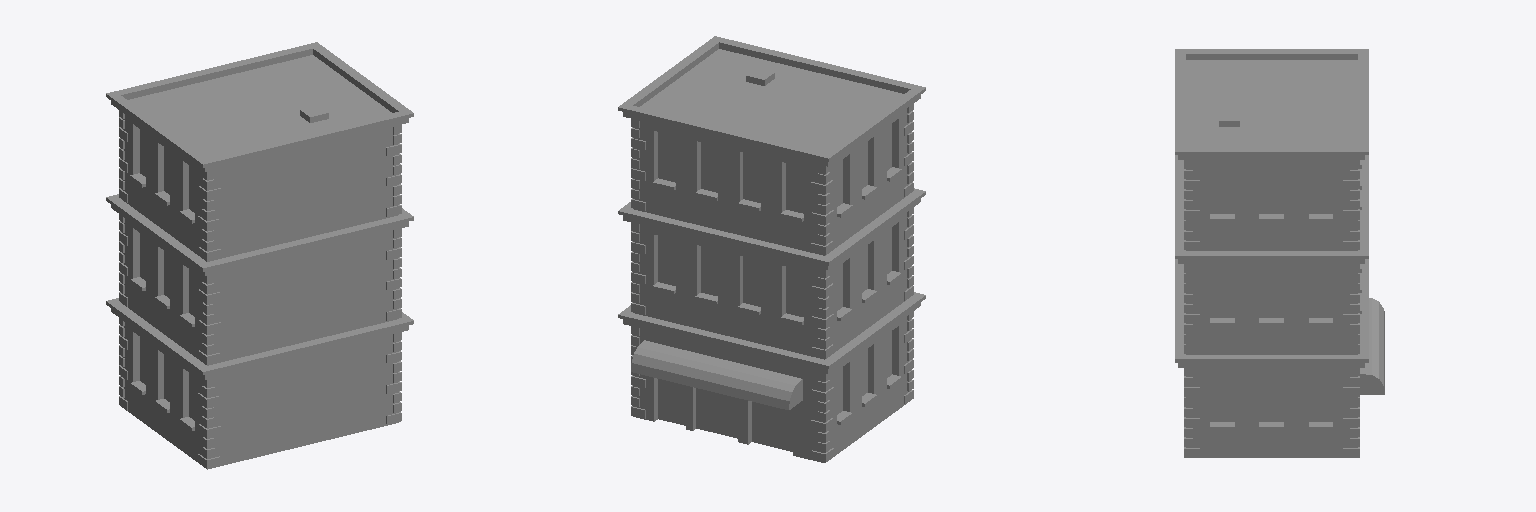
The model's file is Buildings.obj.
The picture shows the model from 3 angles: view 1: azimuth 30°, elevation 25°; view 2: azimuth 150°, elevation 25°; view 3: azimuth 270°, elevation 25°; orthographic projection.
Parts seen in each view (by area): view 1: apartments2.000_Plane.002; view 2: apartments2.000_Plane.002; view 3: apartments2.000_Plane.002.
Boxes of the visible parts, box(x1,y1,x2,y2) form: apartments2.000_Plane.002: box(106, 42, 413, 469); apartments2.000_Plane.002: box(618, 36, 925, 462); apartments2.000_Plane.002: box(1175, 49, 1384, 457).
Size of the model in its own units: 6.6 by 9.3 by 5.71.